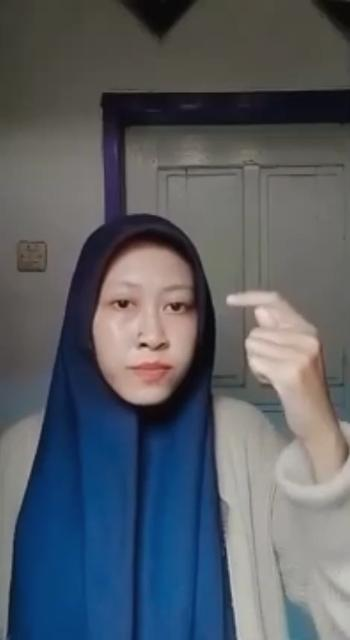T: (224, 287, 328, 401)
